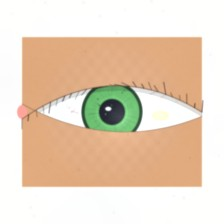pinguecula_lesion: (143, 102, 178, 130)
